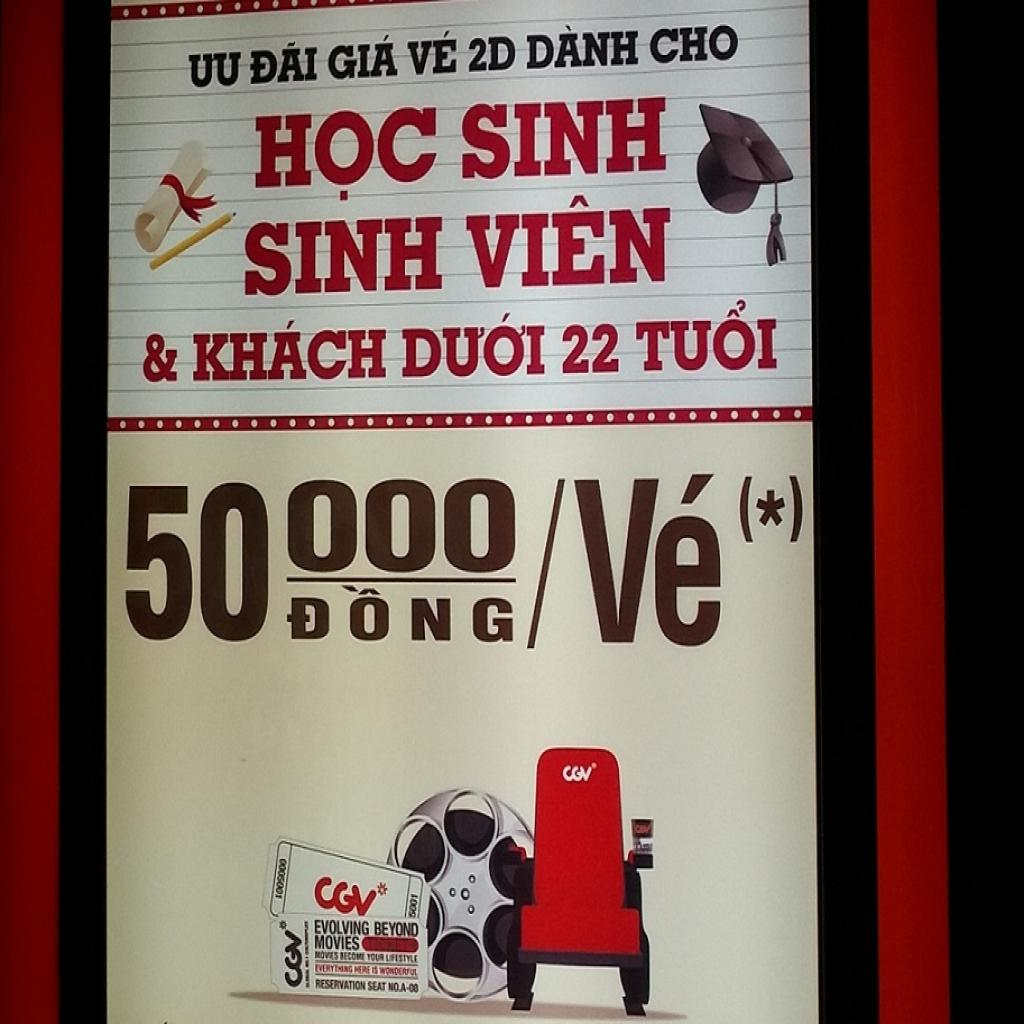text: (571, 468, 736, 657), (122, 471, 276, 651), (280, 466, 520, 581), (456, 184, 678, 294), (453, 86, 675, 191), (247, 100, 442, 212), (239, 210, 447, 304), (280, 581, 522, 648), (188, 316, 392, 388), (632, 294, 780, 380), (397, 308, 551, 384), (522, 17, 642, 75), (647, 14, 740, 72), (325, 28, 406, 88), (556, 318, 626, 382), (246, 32, 322, 90), (312, 865, 379, 919), (405, 20, 464, 81), (184, 41, 246, 92), (464, 23, 520, 78), (279, 917, 305, 992), (314, 915, 371, 937), (370, 918, 422, 940), (562, 758, 600, 786), (314, 934, 362, 952)
